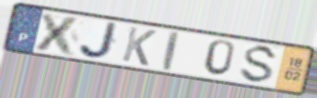0: (200, 39, 237, 78)
I: (162, 29, 182, 72)
J: (78, 20, 122, 60)
K: (120, 24, 159, 68)
S: (237, 44, 281, 85)
X: (32, 11, 85, 58)
